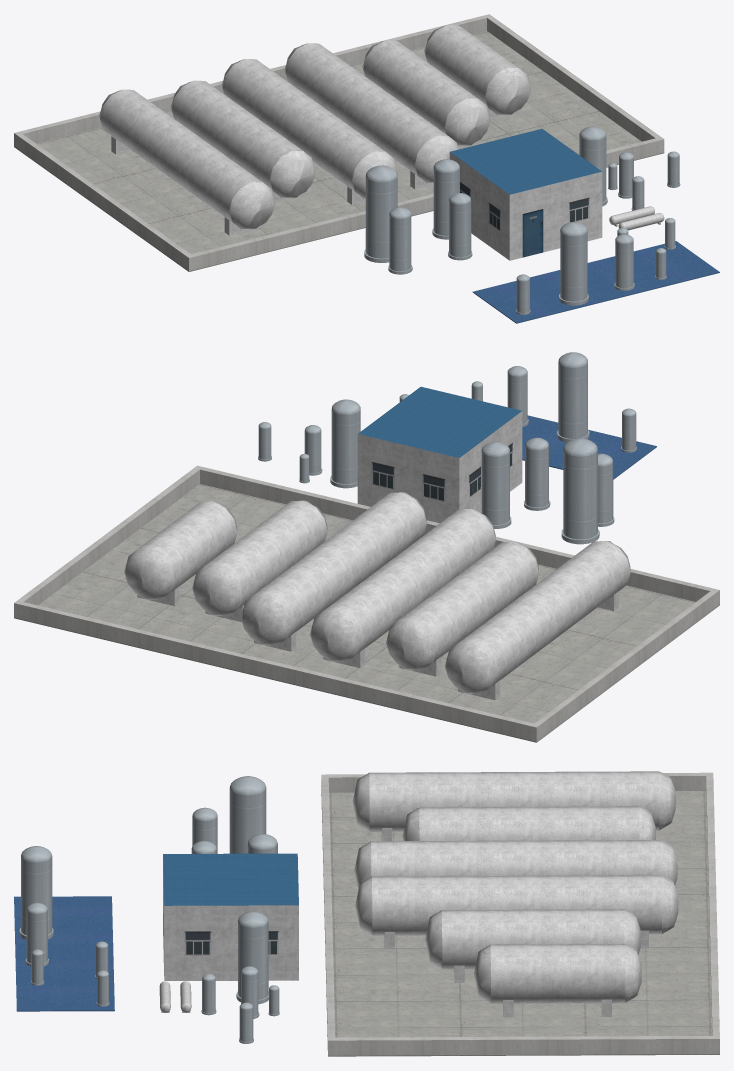
The model's file is tileset.gltf.
3 views of the same model, one above another, from view 1: azimuth 30°, elevation 25°; view 2: azimuth 150°, elevation 25°; view 3: azimuth 270°, elevation 25° (orthographic). The views are drawn at different scales.
Visible parts, largest first — view 1: 404工段精馏小工段-1F-1F; view 2: 404工段精馏小工段-1F-1F; view 3: 404工段精馏小工段-1F-1F.
Part boxes in pixels (<box>): 404工段精馏小工段-1F-1F: <box>14,14,719,323</box>; 404工段精馏小工段-1F-1F: <box>14,352,719,742</box>; 404工段精馏小工段-1F-1F: <box>14,771,719,1056</box>.
Bounding box in the file's own units: 31.7 × 5.6 × 35.31.
8 materials, 8 textured.
